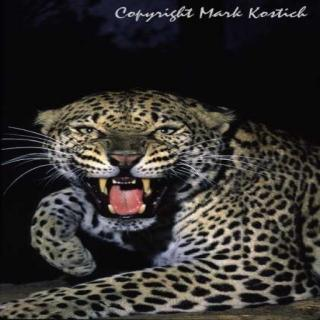Leopard: (18, 72, 318, 312)
